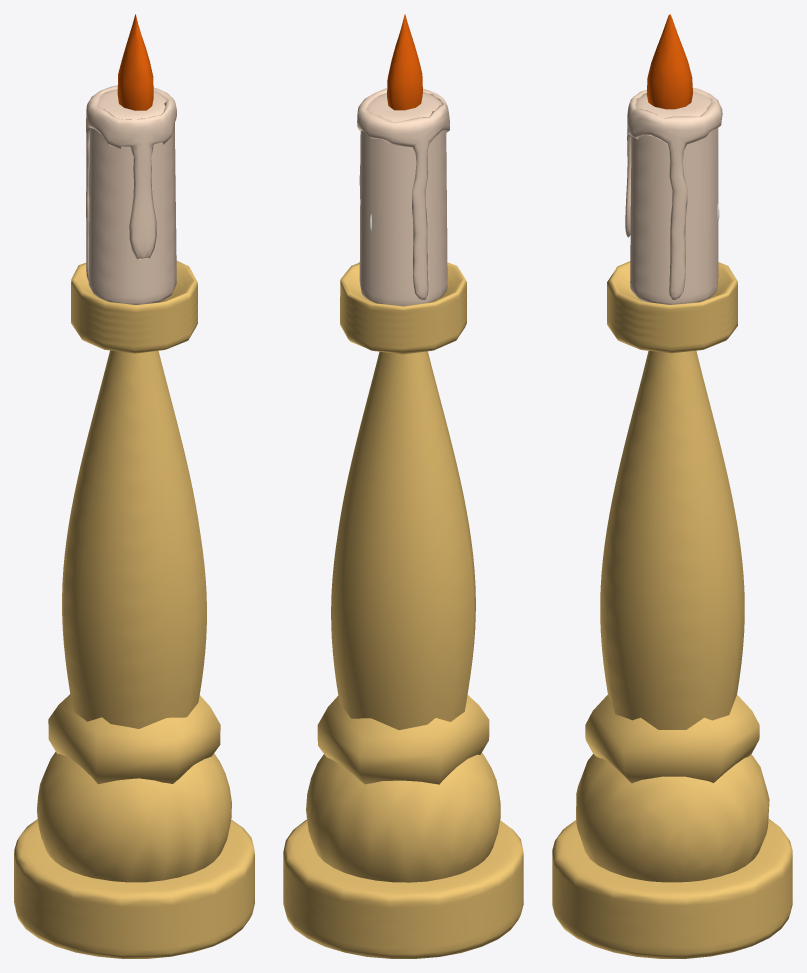
3 views of the same model, side by side, from view 1: azimuth 30°, elevation 25°; view 2: azimuth 150°, elevation 25°; view 3: azimuth 270°, elevation 25° (orthographic).
Visible parts, largest first — view 1: Obj_Avatar_Shape (×3); view 2: Obj_Avatar_Shape (×3); view 3: Obj_Avatar_Shape (×3).
Part boxes in pixels (x1=…): Obj_Avatar_Shape (×3): x1=14, y1=14, x2=254, y2=958; Obj_Avatar_Shape (×3): x1=283, y1=14, x2=523, y2=958; Obj_Avatar_Shape (×3): x1=552, y1=14, x2=792, y2=958.
Size of the model in its own units: 0.603 by 2.49 by 0.6058.
